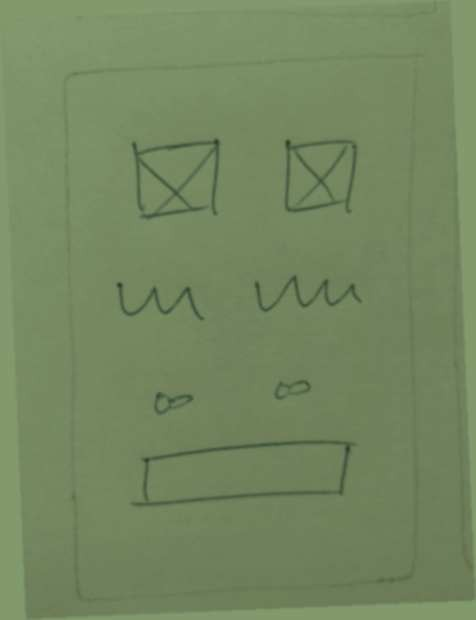image: (119, 124, 232, 228), (266, 127, 375, 231)
switch: (260, 363, 325, 408), (138, 377, 203, 419)
text: (110, 268, 215, 340), (243, 263, 366, 322)
text_input: (112, 434, 372, 515)
